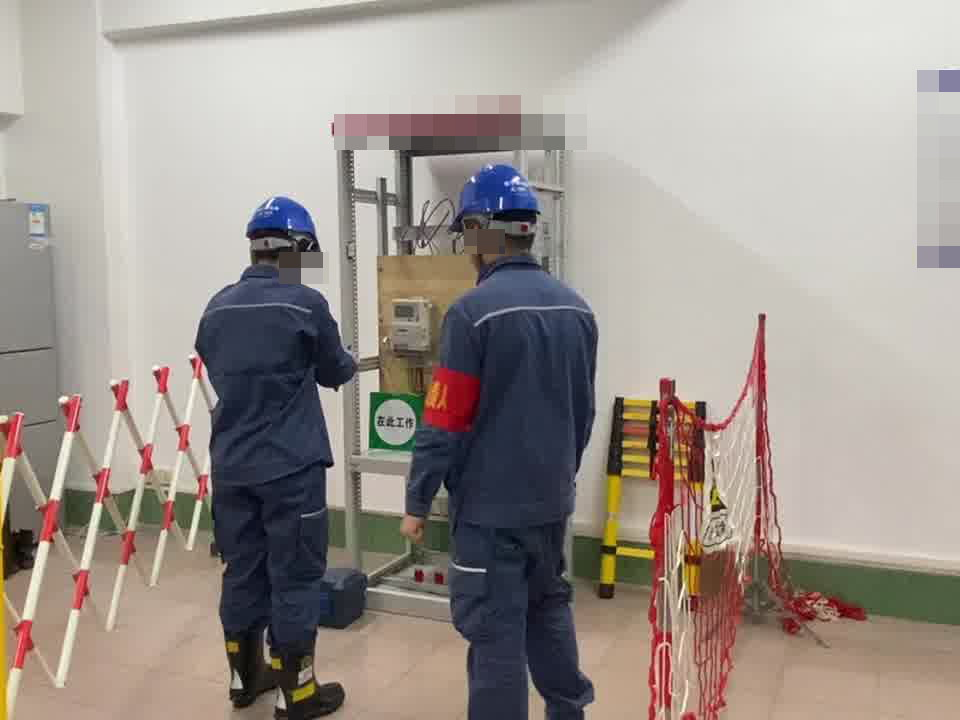badge: (420, 364, 484, 435)
downsuit: (449, 528, 594, 720), (210, 478, 335, 633)
halt: (447, 162, 545, 271), (243, 194, 323, 280)
hand: (398, 509, 426, 544)
inear: (464, 215, 491, 256)
person: (398, 159, 607, 720), (188, 192, 362, 720)
shoe: (223, 632, 349, 720)
upsuit: (399, 260, 603, 527), (192, 262, 360, 476)
worksign: (365, 387, 423, 453)
